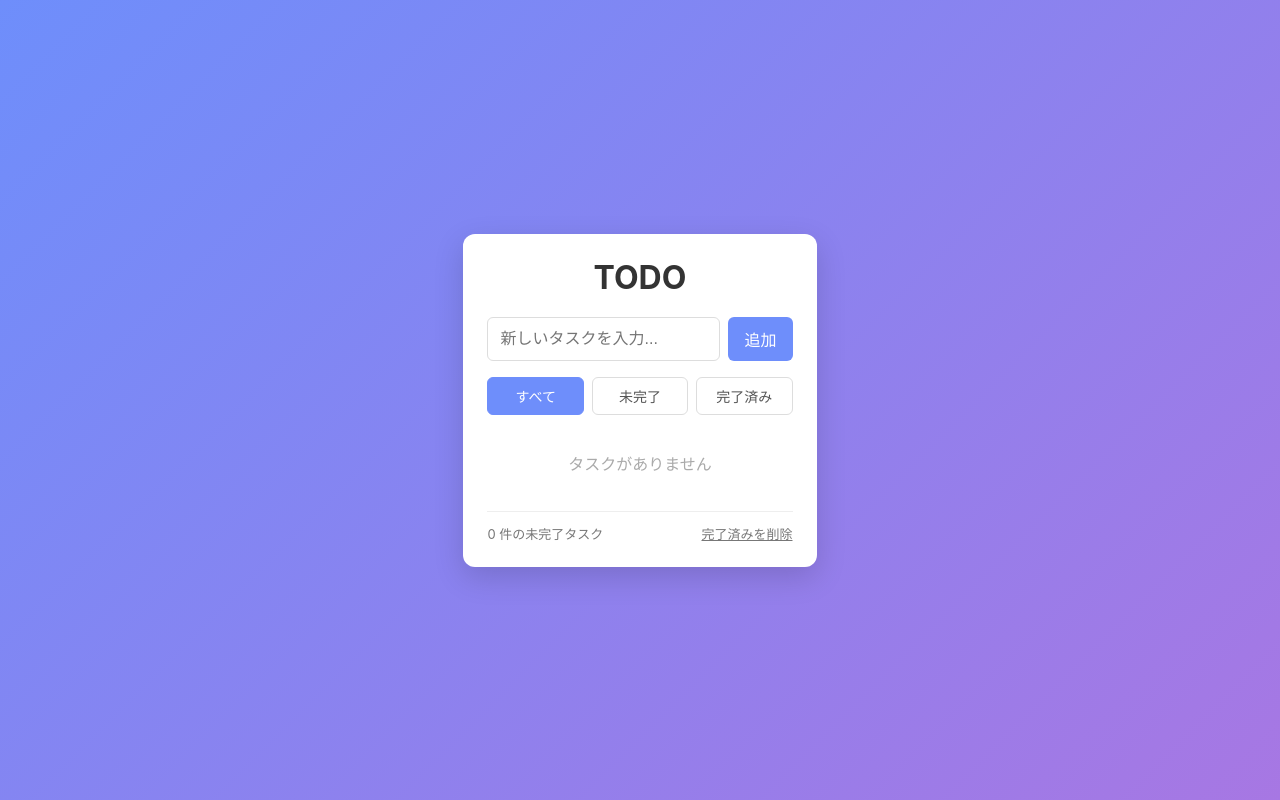
Test: TODOアプリ › タスクを追加すると一覧に表示され、未完了件数が増える
This screenshot has width=1280, height=800.
Type "牛乳を買う" into the field with placeholder "新しいタスクを入力..." at (604, 338), box x1=488 y1=316 x2=720 y2=360
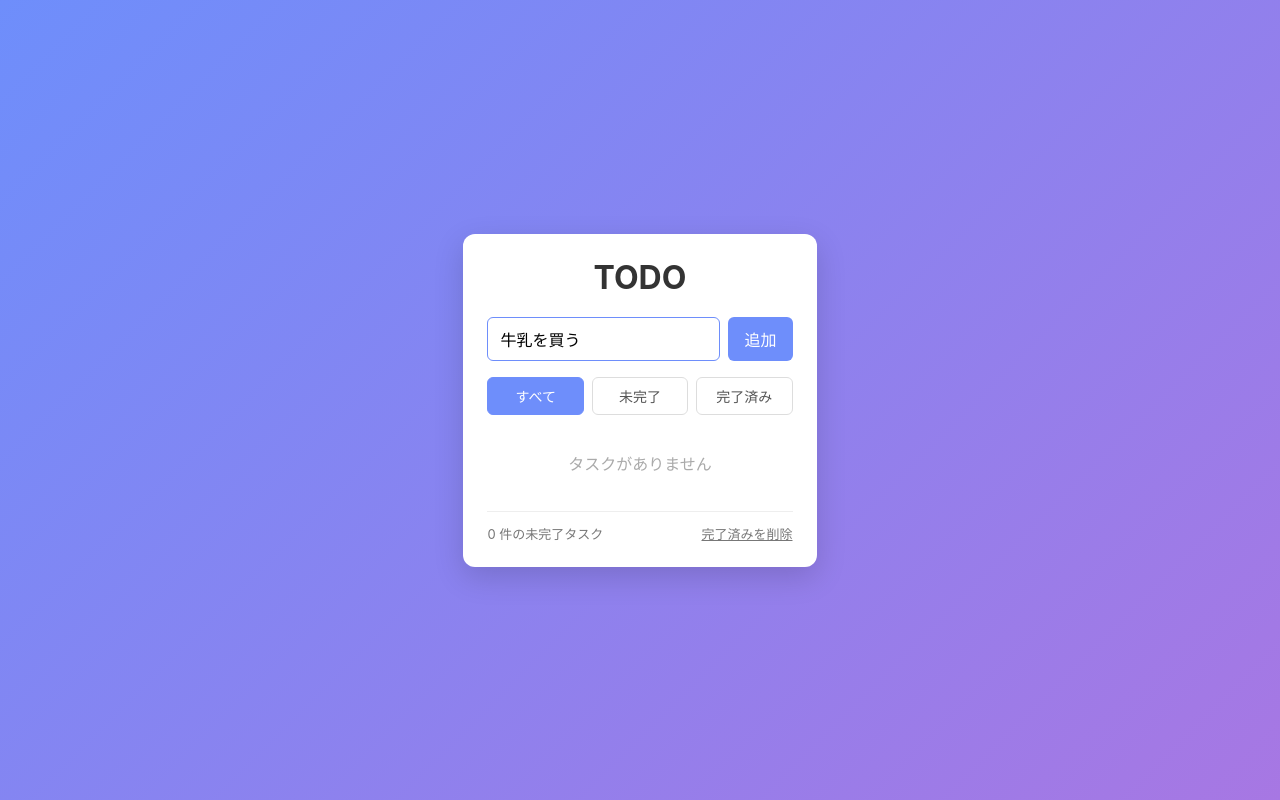
Click the button "追加" at (760, 338), box x1=728 y1=316 x2=792 y2=360
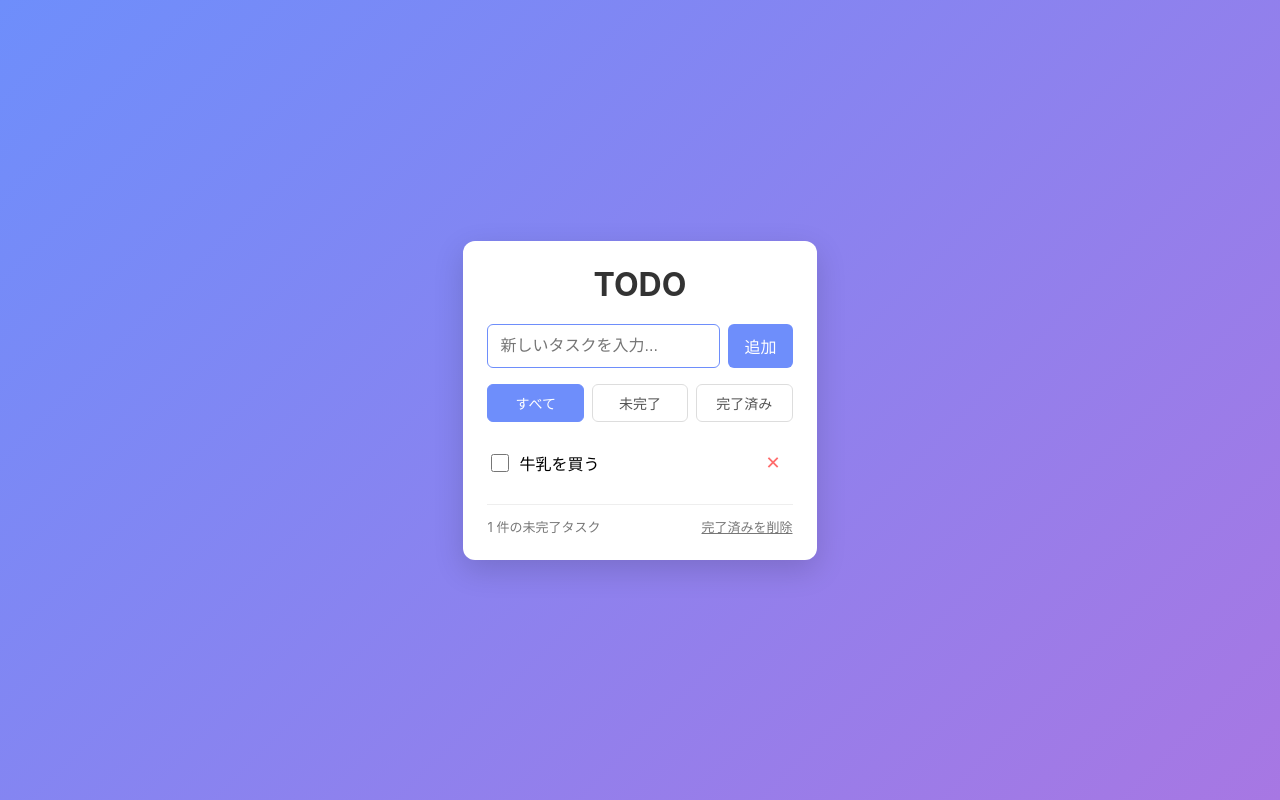
Check: the text "牛乳を買う" is shown, box x1=520 y1=454 x2=600 y2=474
Check: the text "1 件の未完了タスク" is shown, box x1=488 y1=516 x2=600 y2=536
Check: the list item "タスクがありません" is gone
